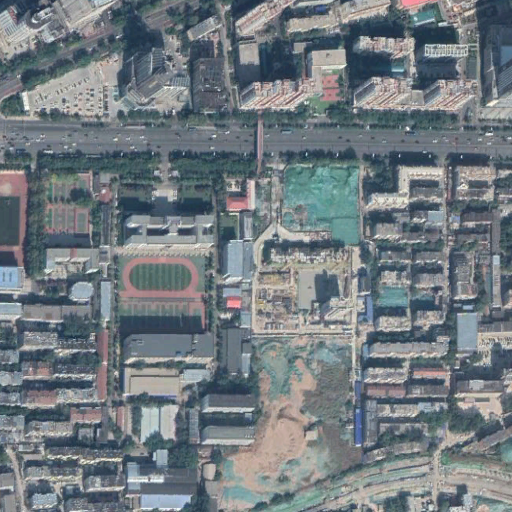cw: (212, 333, 355, 512), (282, 164, 361, 245)
